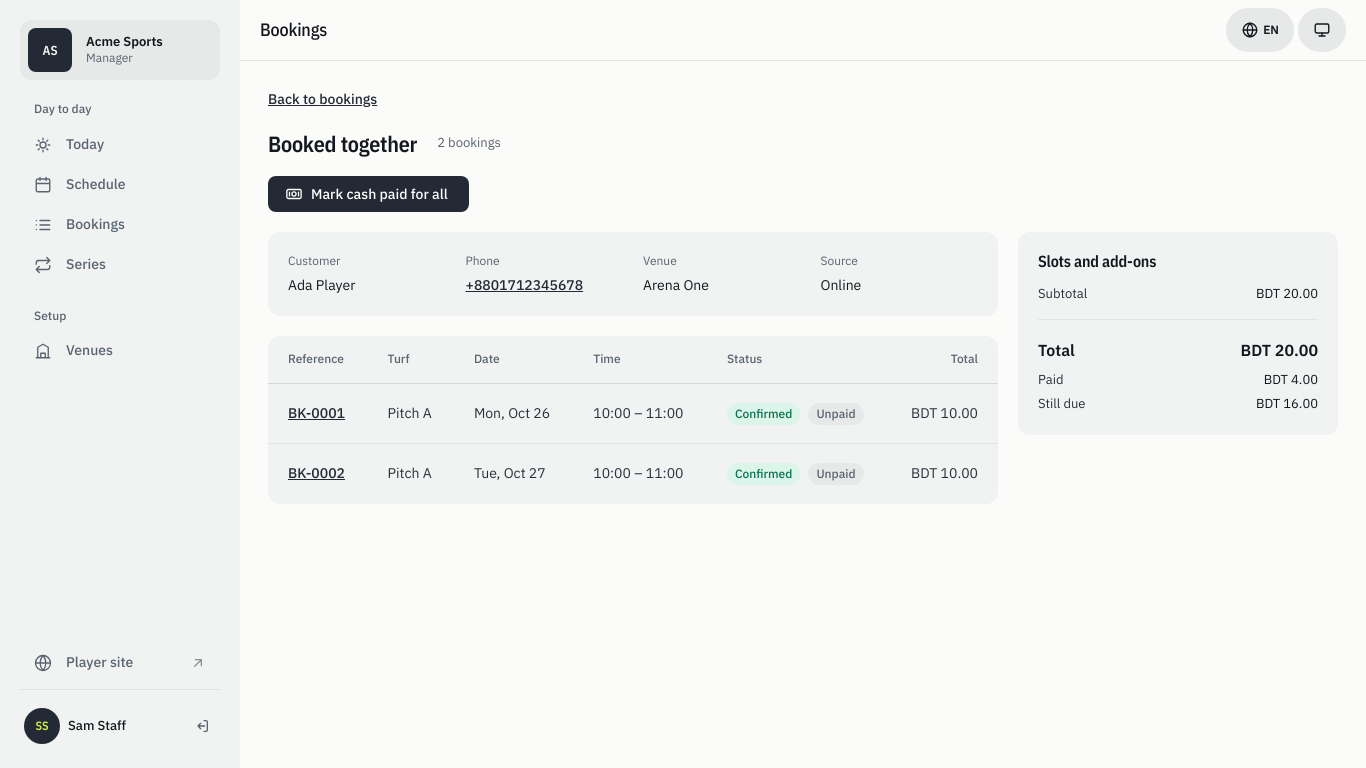
Scenario: owner booking group page › mark cash paid for all posts once and reloads
The image size is (1366, 768).
Step 1. Click the button "Mark cash paid for all" → (368, 194), box [268,176,469,212]
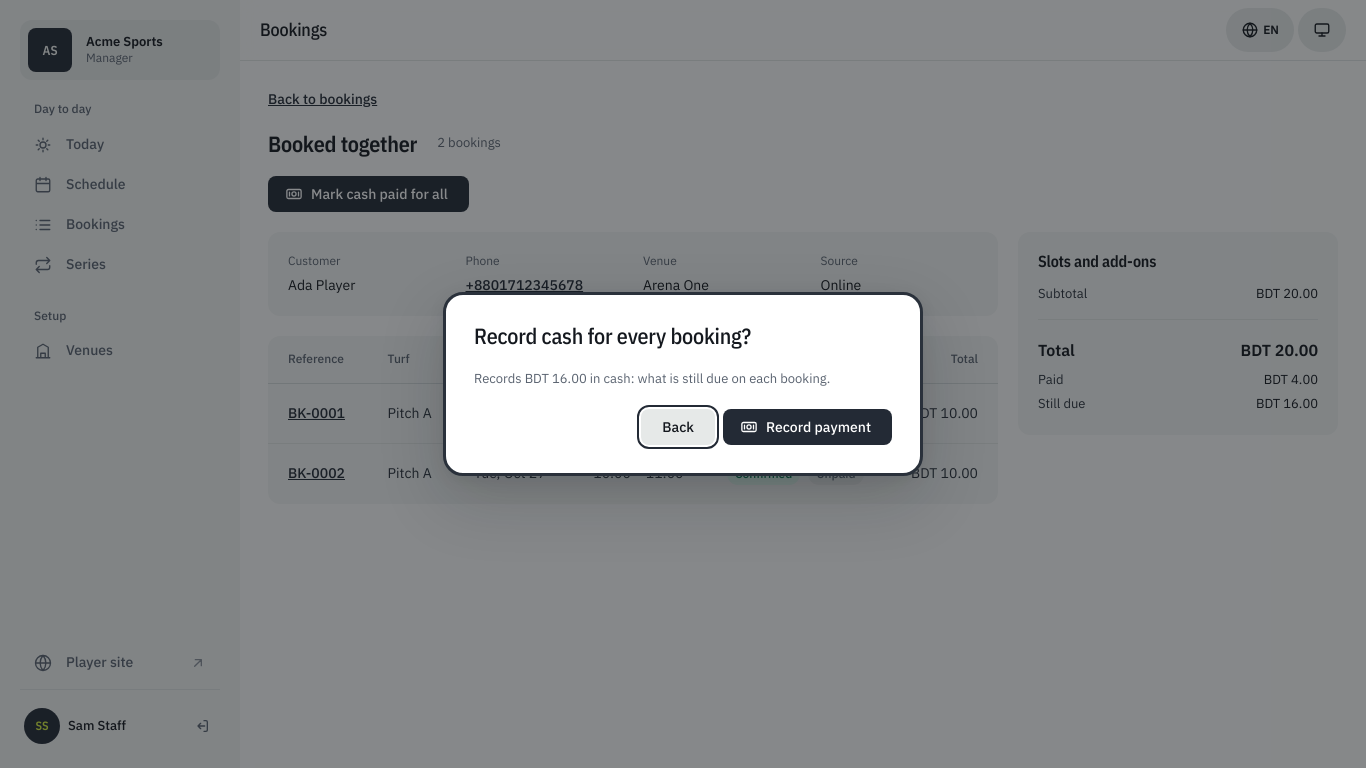
Result: the text "16.00" is shown at [474,370,830,387]
Step 2. Click the button "Record payment" → (808, 427), box [723,409,892,445]
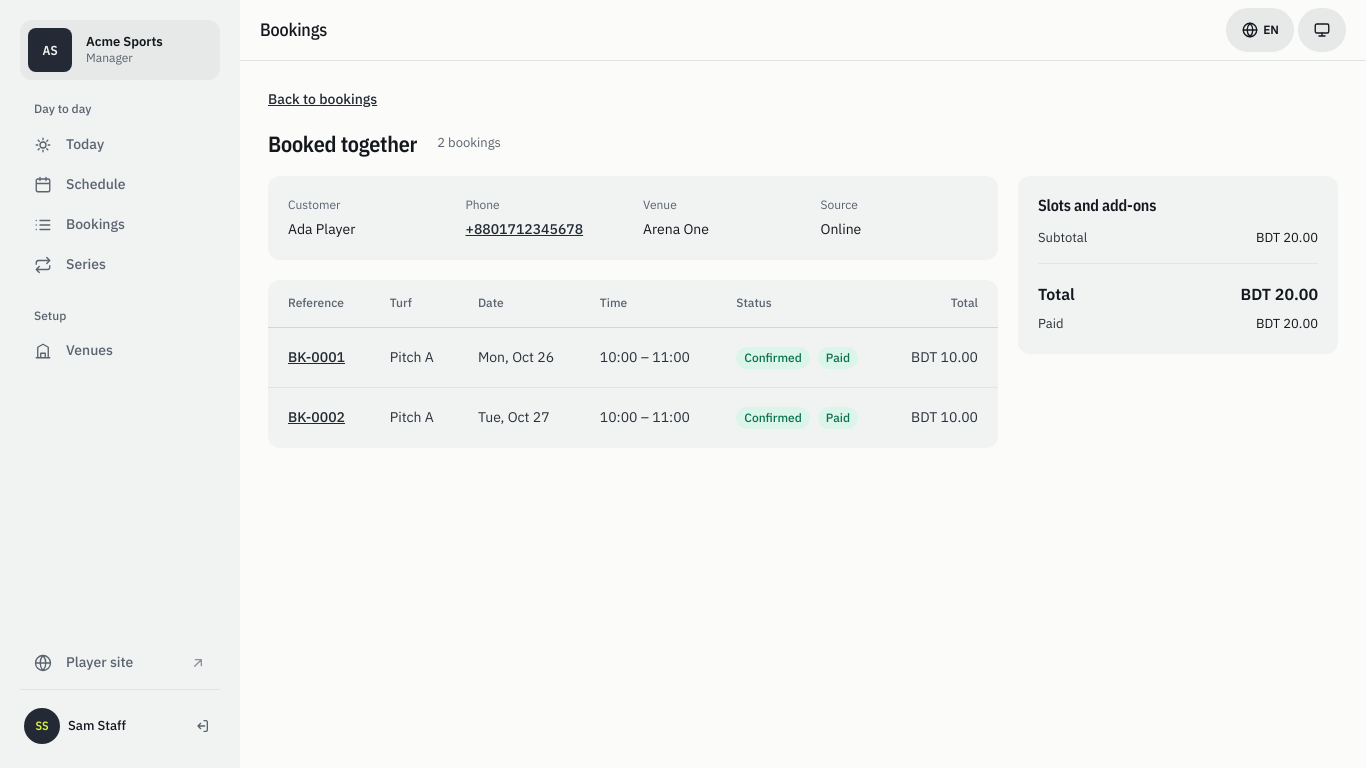
Result: the button "Mark cash paid for all" is gone
